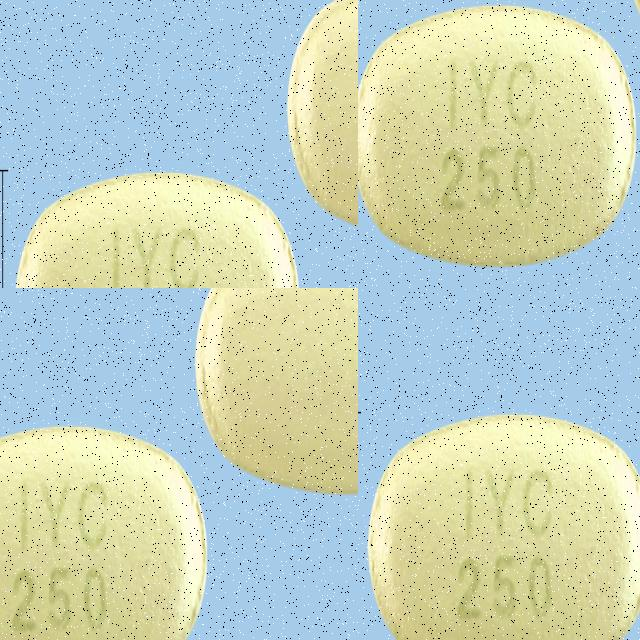Clafacin -500mg: (364, 405, 640, 640)
Craproxin: (491, 90, 640, 288)
Dongkoo Levofloxacin Hydrate Tab-500mg: (0, 539, 293, 640)
